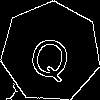Q: (25, 26, 76, 84)
